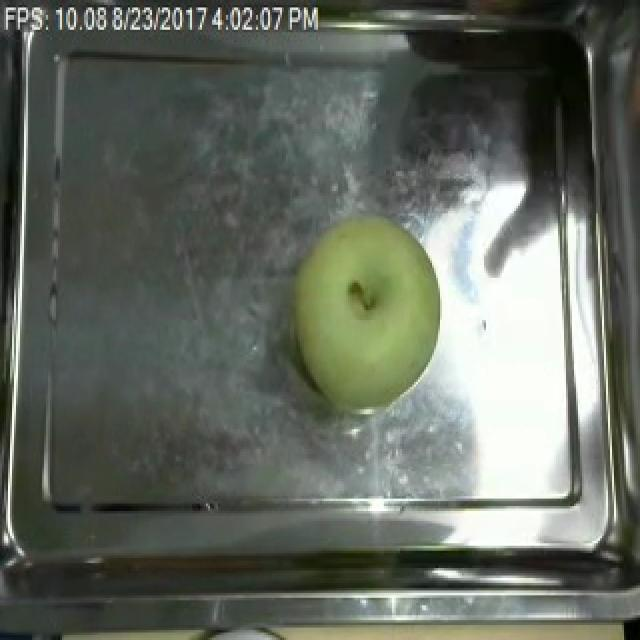50-_ripeness: (294, 208, 458, 430)
